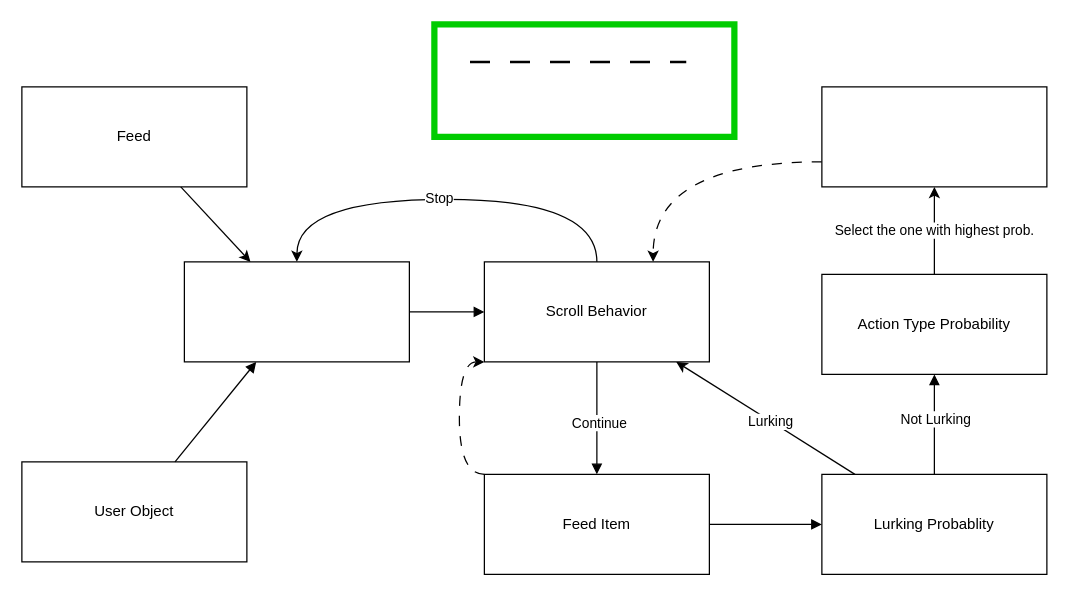
Image size: 1069x596. Some labels were removed from this diagram. Here are the shapes that lost their labels. From the top down, the centre of each, then its label:
At pixel 584 80: "Both Feed Item and Action might contribute to Scroll Behavior".
At pixel 934 136: "Post/Reply/Repost/Quote".
At pixel 296 311: "User Behavior Model".
